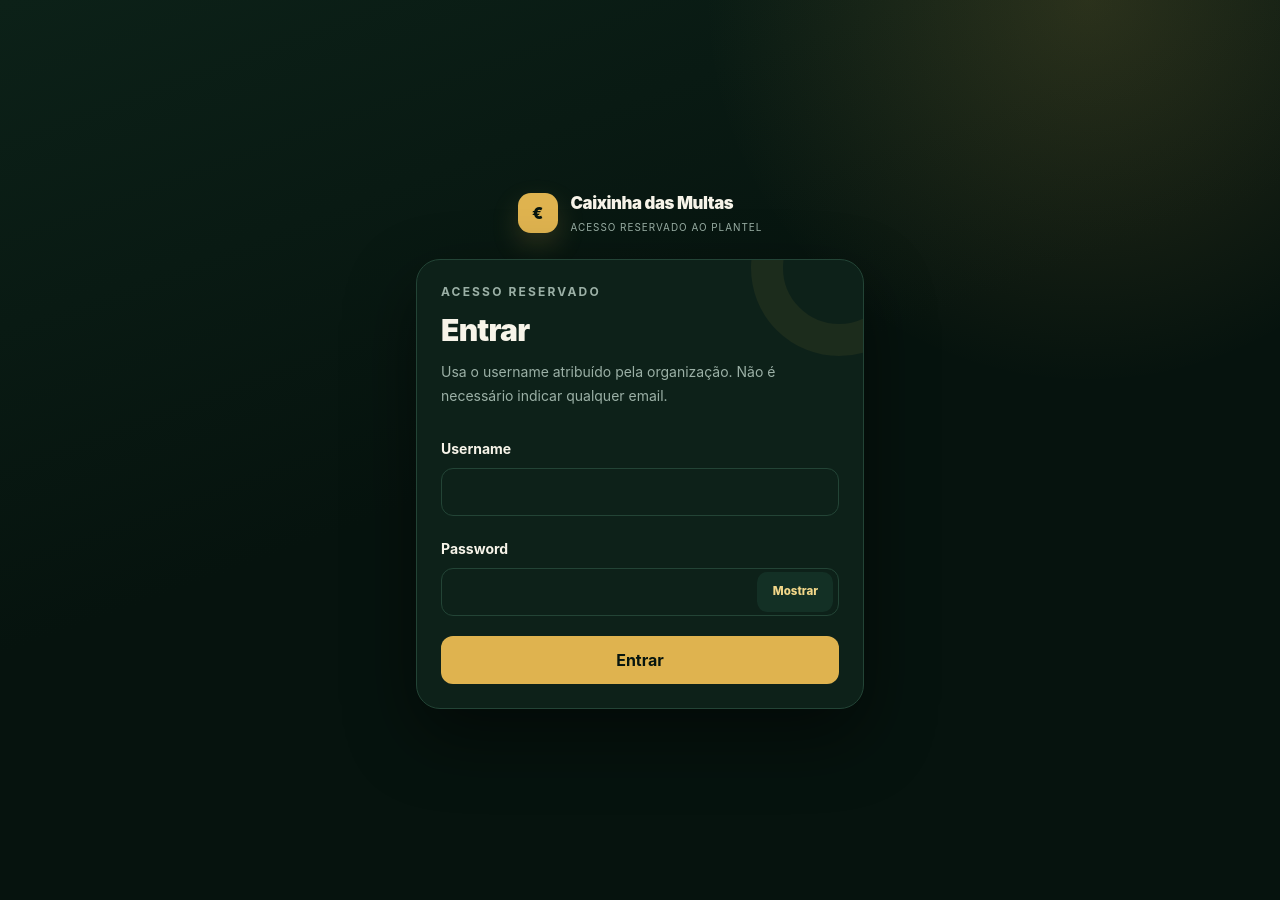
Test: autenticação e rotas da aplicação › faz login e condiciona as tabs ao contexto autorizado
Expected: the heading "Entrar" is shown, [441,312,530,348]
Step 1. Type " Jogador.A " into the field labelled "Username" → (640, 492), box [441,468,839,516]
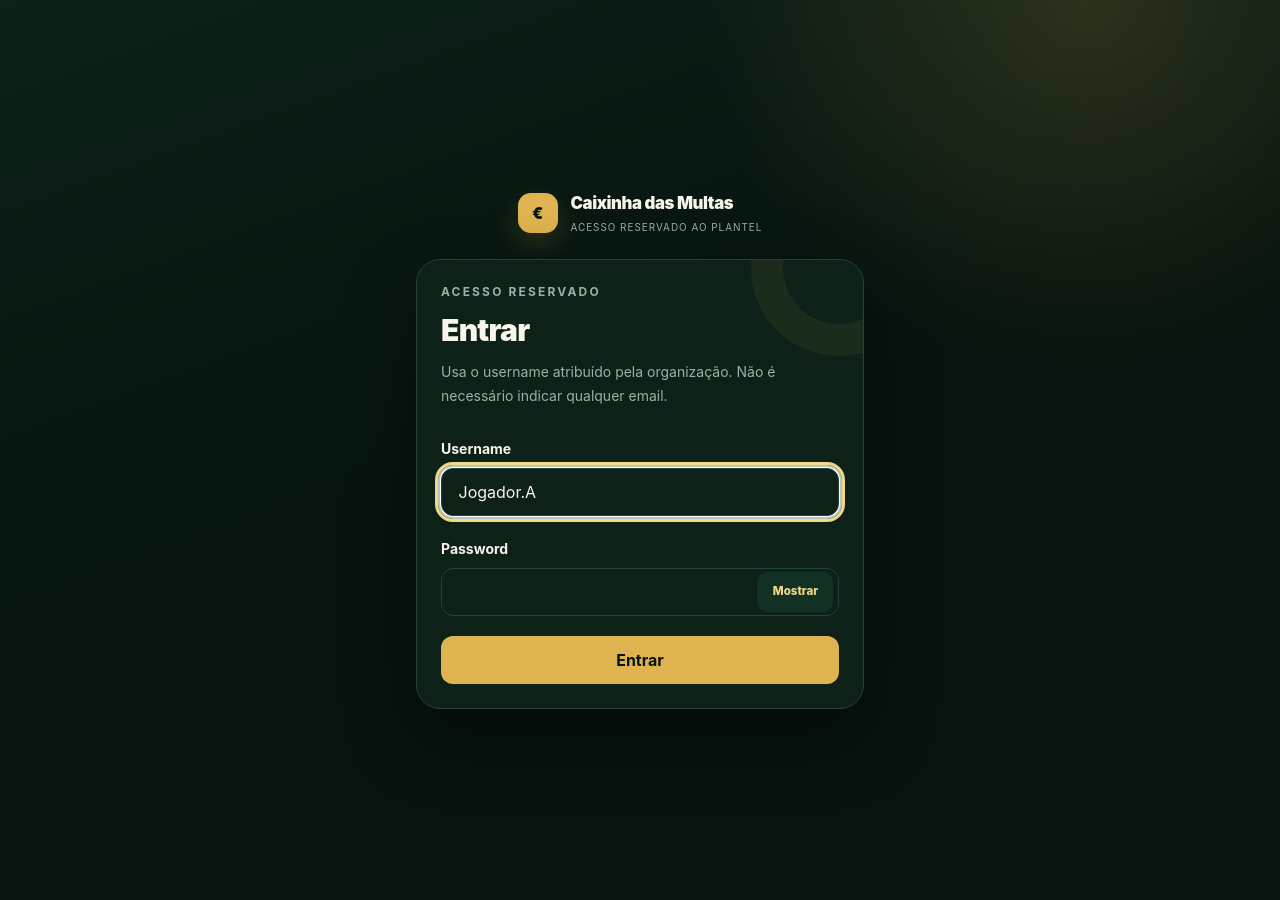
Step 2. Type "Temporaria1" into the password field labelled "Password" → (640, 592), box [441,568,839,616]
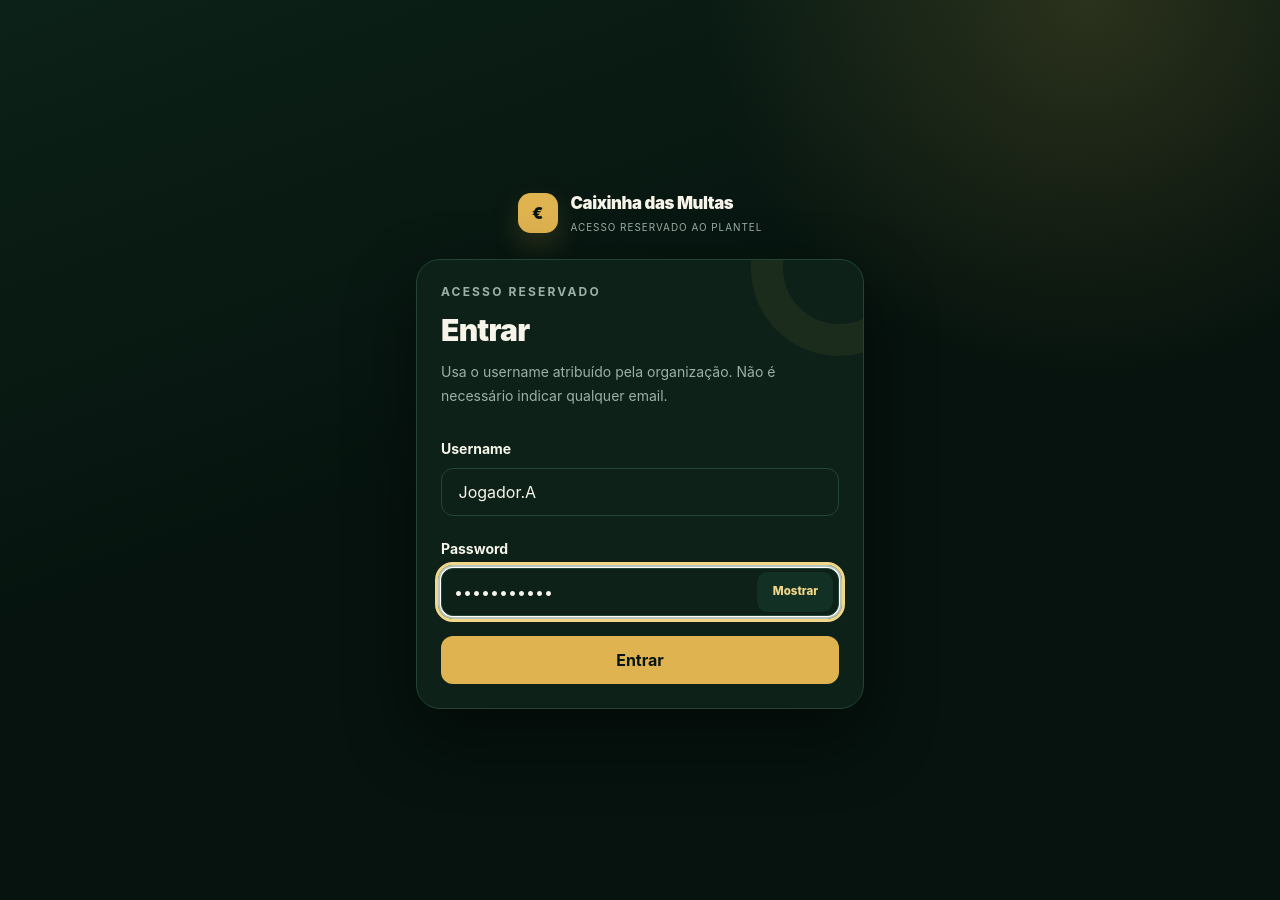
Step 3. Click the button "Entrar" → (640, 660), box [441,636,839,684]
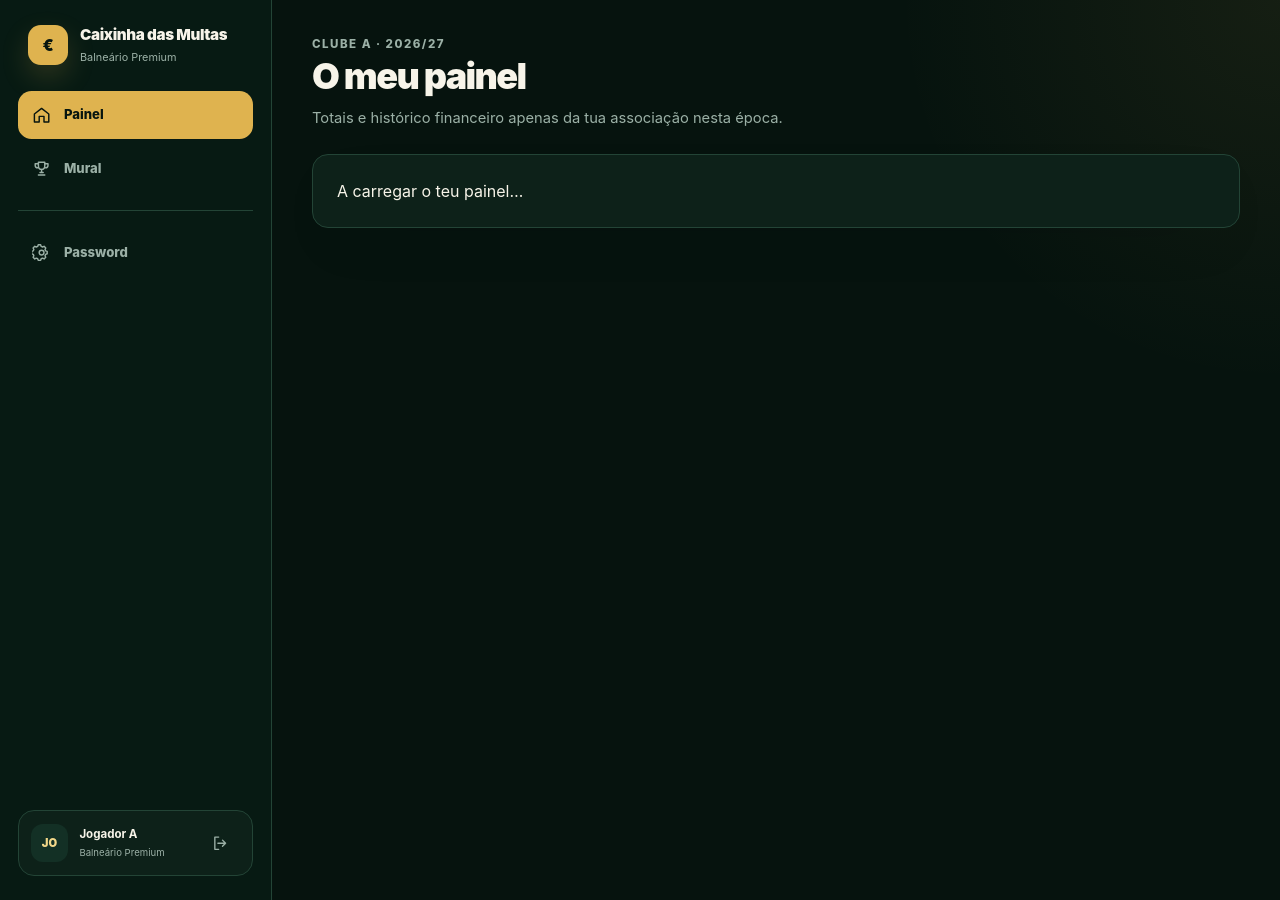
Now the heading "O meu painel" is shown, box [312,54,526,98]
Now the link "Painel" is shown, box [18,91,253,139]
Now the link "Mural" is shown, box [32,159,101,178]
